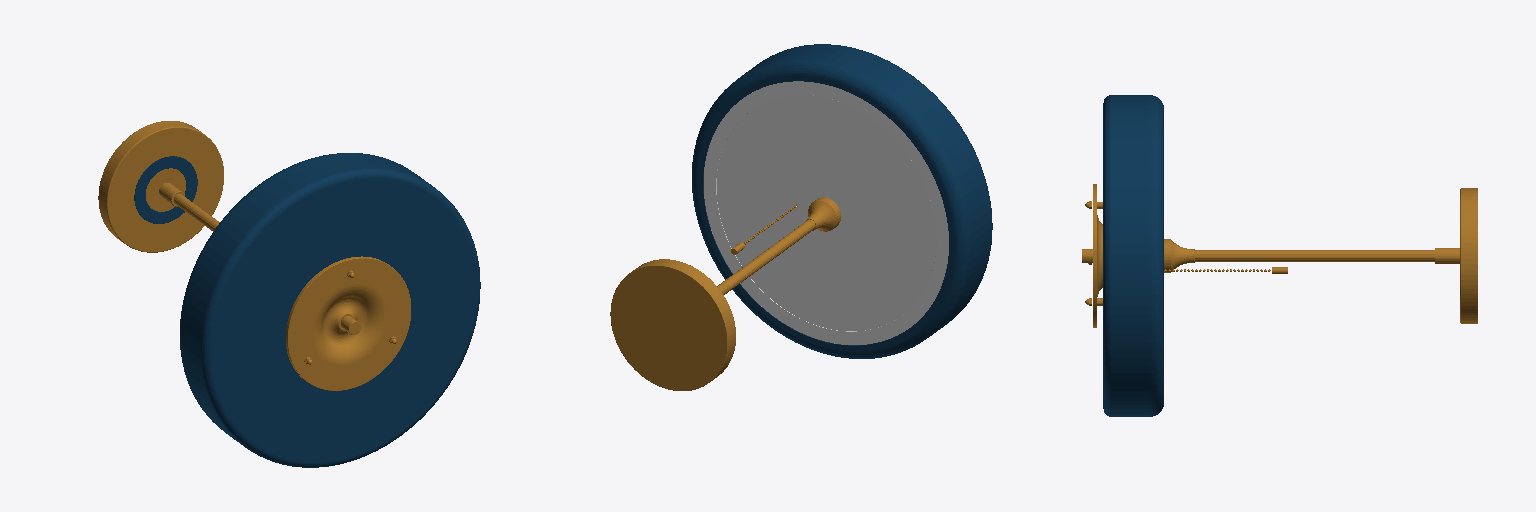
Rendered from Bert_Frank_Revolve_Table_Lamp_mat(3).obj.
The picture shows the model from 3 angles: view 1: azimuth 30°, elevation 25°; view 2: azimuth 150°, elevation 25°; view 3: azimuth 270°, elevation 25°; orthographic projection.
Visible parts, largest first — view 1: Bert_Frank_Revolve_Table_Lamp_mat3; view 2: Bert_Frank_Revolve_Table_Lamp_mat3; view 3: Bert_Frank_Revolve_Table_Lamp_mat3.
Boxes of the visible parts, x1,y1,x2,y2 form: Bert_Frank_Revolve_Table_Lamp_mat3: [98, 121, 480, 467]; Bert_Frank_Revolve_Table_Lamp_mat3: [610, 44, 992, 390]; Bert_Frank_Revolve_Table_Lamp_mat3: [1082, 95, 1477, 416].
Bounding box in the file's own units: 38 × 38 × 46.81.